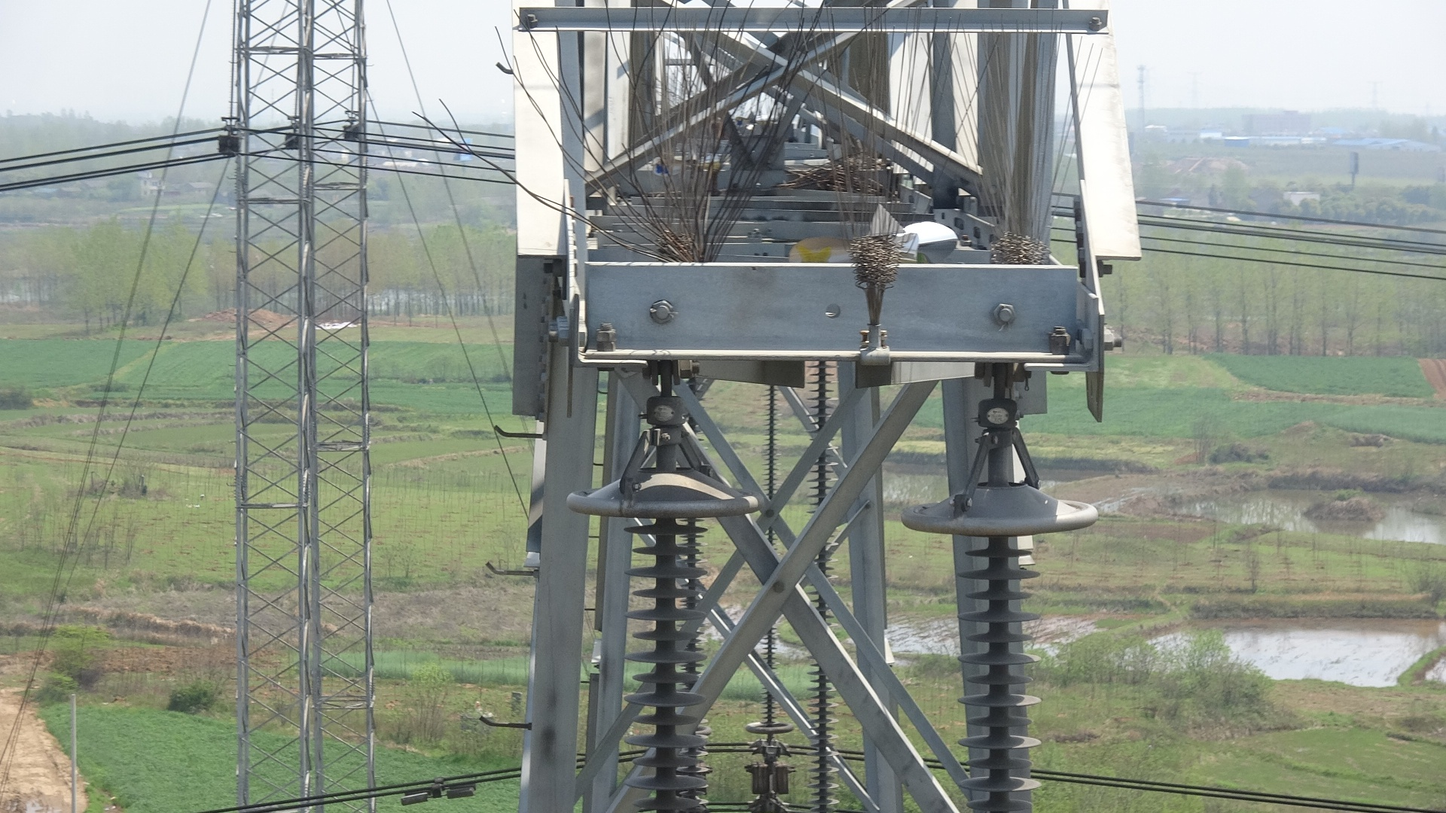insulator: (620, 521, 714, 813), (951, 541, 1048, 813), (802, 659, 847, 813), (806, 537, 844, 629), (802, 358, 843, 435), (758, 384, 783, 498), (802, 448, 840, 516), (759, 623, 782, 726)
